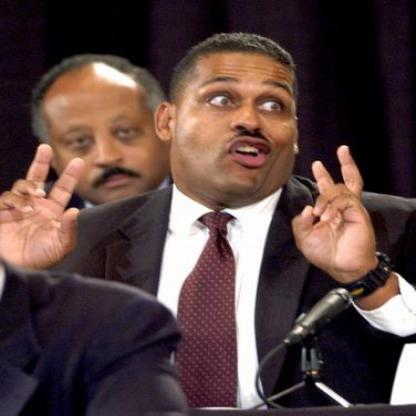face: (172, 37, 306, 195), (47, 62, 165, 210)
